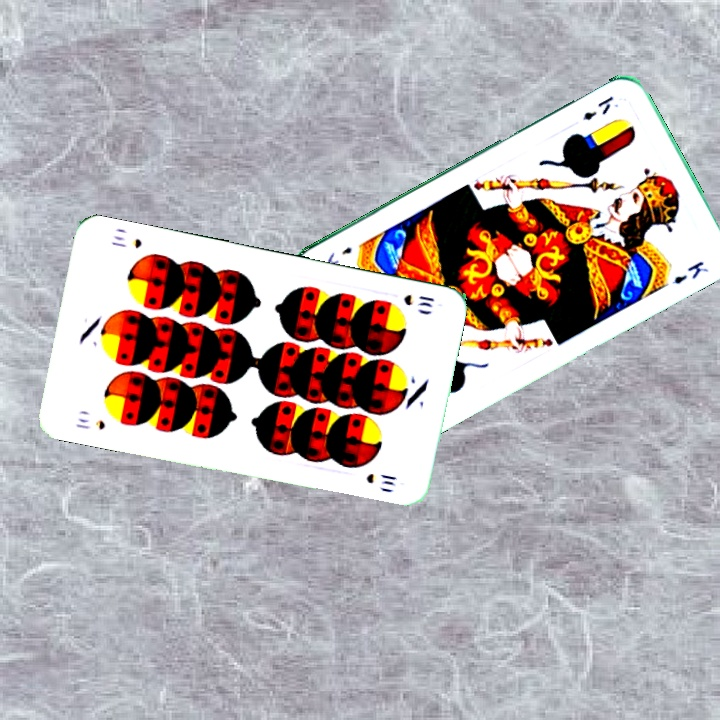EK: (578, 92, 616, 123)
S10: (399, 290, 437, 310), (71, 414, 108, 433)
